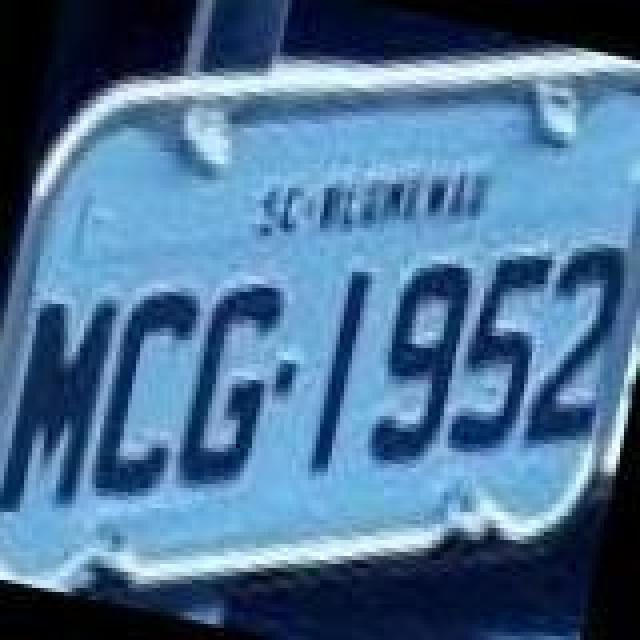1: (306, 260, 374, 476)
2: (518, 232, 634, 456)
5: (440, 240, 552, 464)
9: (360, 252, 472, 476)
C: (82, 276, 206, 508)
G: (174, 270, 290, 498)
M: (0, 286, 120, 530)
